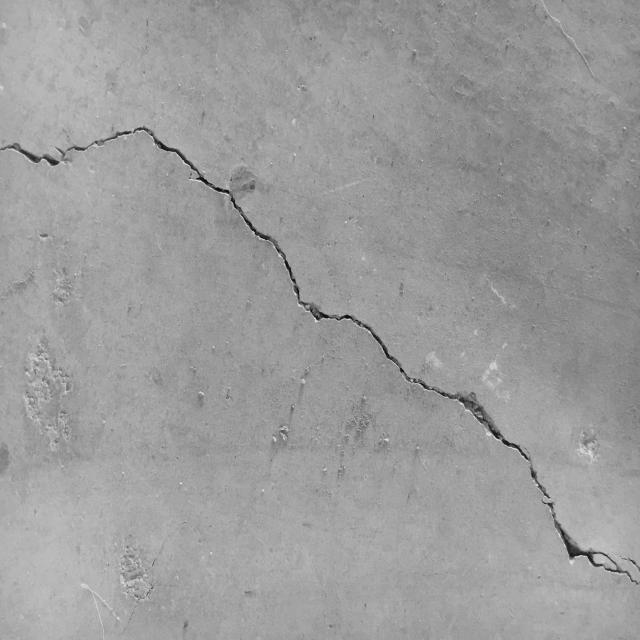SurfaceCrack: (0, 95, 639, 629)
